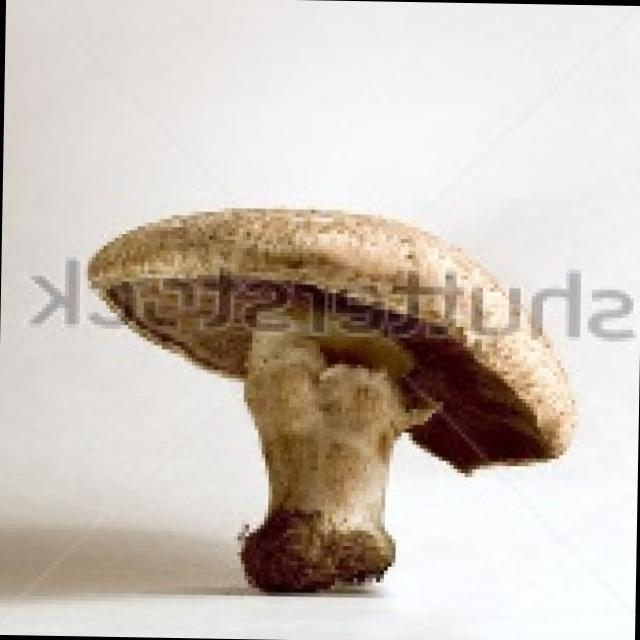mushroom: (70, 201, 582, 601)
